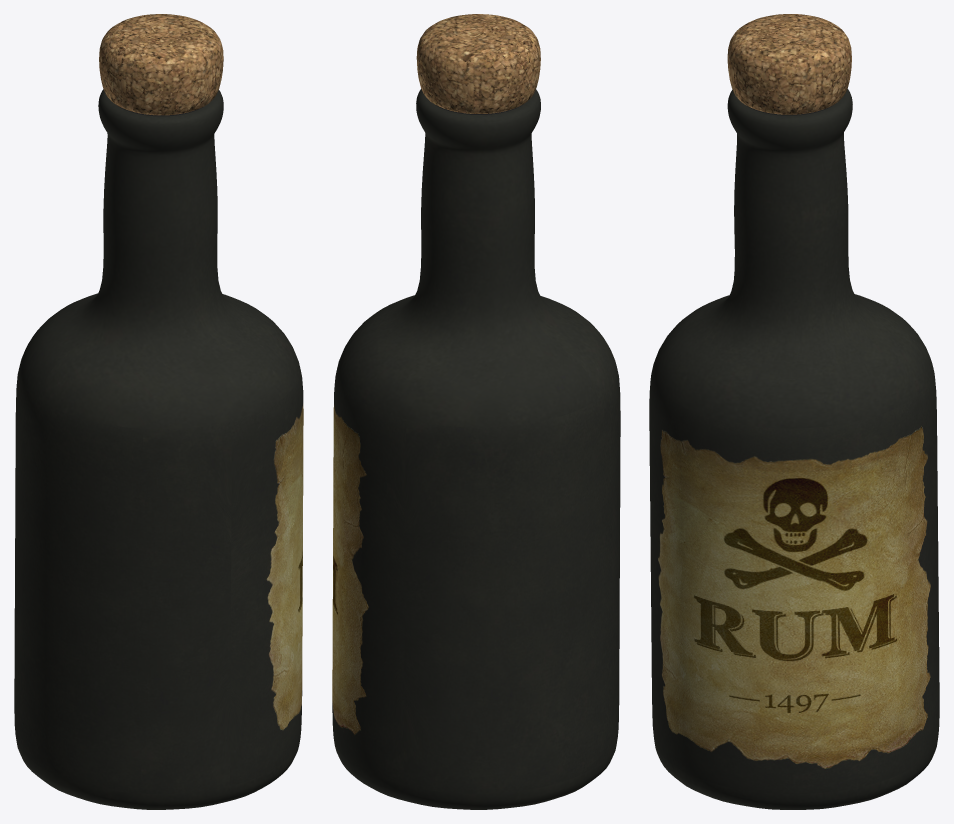
File: bottle.gltf
3 renders of one model, left to right at view 1: azimuth 30°, elevation 25°; view 2: azimuth 150°, elevation 25°; view 3: azimuth 270°, elevation 25°, orthographic.
Visible parts, largest first — view 1: 14056_Bottle_of_Rum_v1_L2; view 2: 14056_Bottle_of_Rum_v1_L2; view 3: 14056_Bottle_of_Rum_v1_L2.
Boxes of the visible parts, x1=… form: 14056_Bottle_of_Rum_v1_L2: x1=14, y1=14, x2=303, y2=809; 14056_Bottle_of_Rum_v1_L2: x1=332, y1=14, x2=620, y2=809; 14056_Bottle_of_Rum_v1_L2: x1=649, y1=14, x2=939, y2=809.
Size of the model in its own units: 4.69 by 13.17 by 4.74.
Materials: 1 (1 with a texture image).
